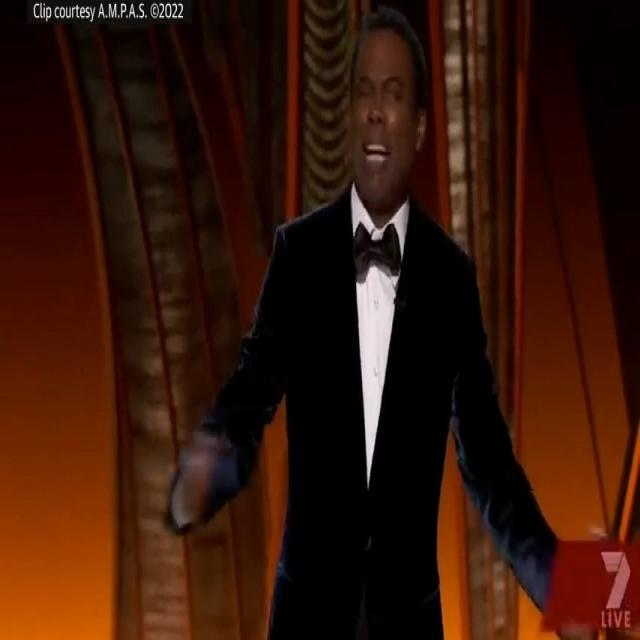non-fight: (163, 1, 640, 640)
